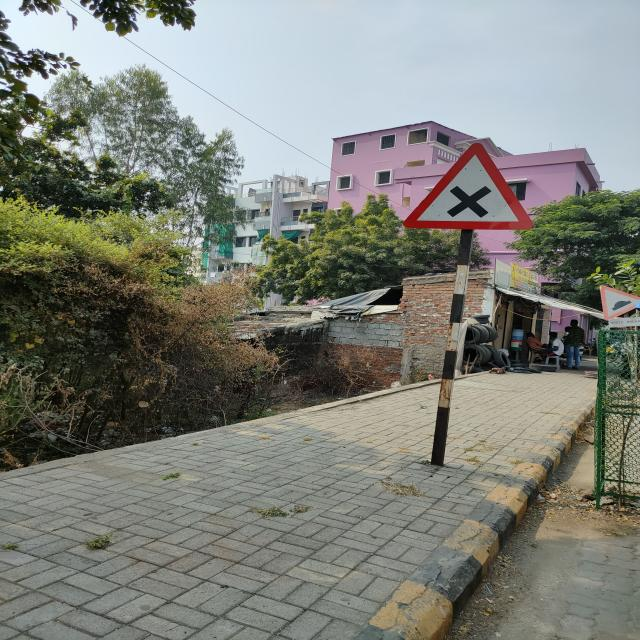CROSS_ROAD: (400, 140, 541, 240)
